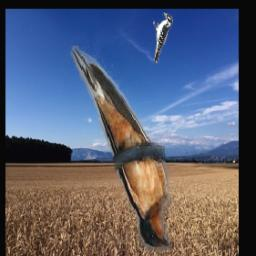Swallow: (67, 46, 173, 252)
Woodpecker: (153, 13, 173, 63)
